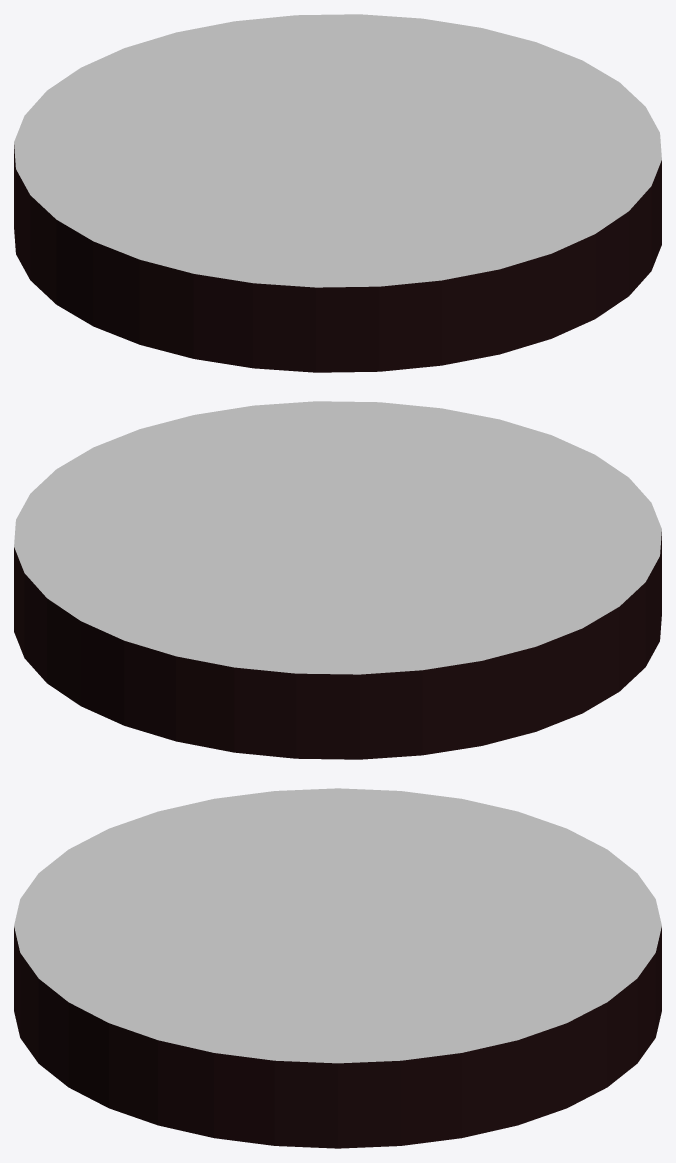
The model's file is ChrysanthemumWhite.obj.
The picture shows the model from 3 angles, top to bottom: view 1: azimuth 30°, elevation 25°; view 2: azimuth 150°, elevation 25°; view 3: azimuth 270°, elevation 25°; orthographic projection.
Parts seen in each view (by area): view 1: Cylinder; view 2: Cylinder; view 3: Cylinder.
Part boxes in pixels (box(x1,y1,x2,y2)): Cylinder: box(14, 14, 661, 372); Cylinder: box(14, 401, 661, 759); Cylinder: box(14, 788, 661, 1148).
Size of the model in its own units: 2.01 by 0.2902 by 2.
